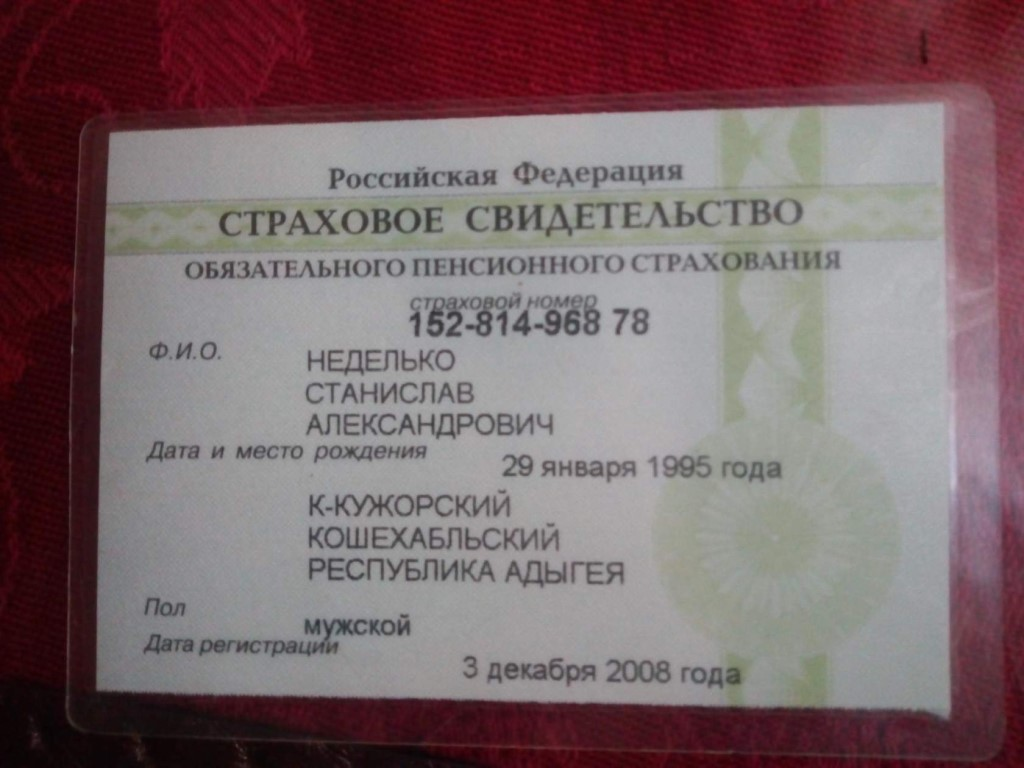text: (293, 486, 633, 592), (462, 648, 746, 693), (495, 450, 782, 485), (300, 405, 561, 442), (402, 306, 656, 343), (300, 372, 479, 407), (303, 340, 470, 375), (298, 609, 423, 640)
